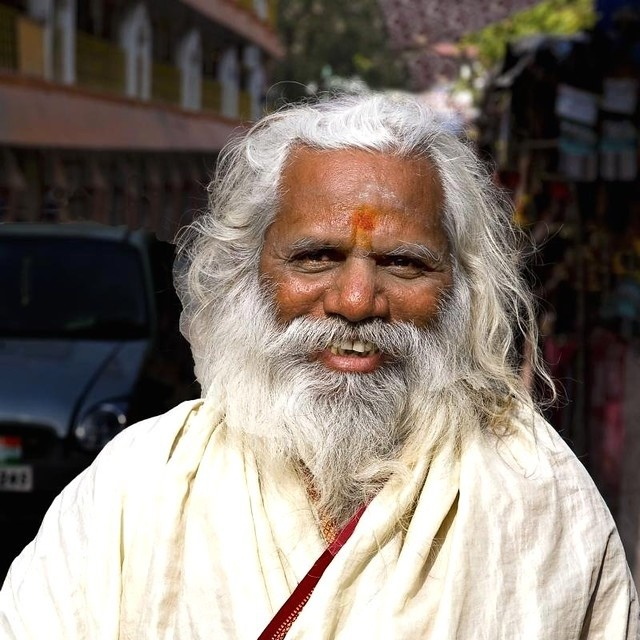face_no_mask: (217, 110, 469, 419)
